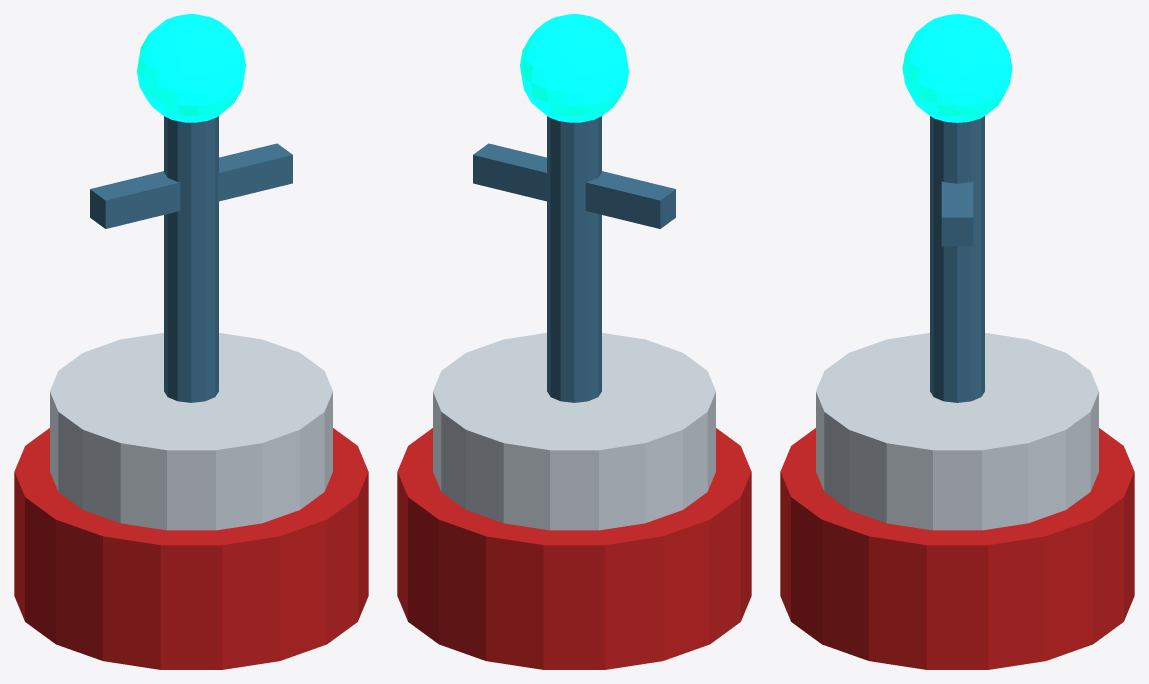
The model's file is ocean_buoy.glb.
The picture shows the model from 3 angles, left to right: view 1: azimuth 30°, elevation 25°; view 2: azimuth 150°, elevation 25°; view 3: azimuth 270°, elevation 25°; orthographic projection.
Parts seen in each view (by area): view 1: ocean_buoy; view 2: ocean_buoy; view 3: ocean_buoy.
Boxes of the visible parts, bbox=[...] form: ocean_buoy: bbox=[14, 14, 368, 669]; ocean_buoy: bbox=[397, 14, 751, 669]; ocean_buoy: bbox=[780, 14, 1134, 669].
Size of the model in its own units: 0.8863 by 1.62 by 0.9.
